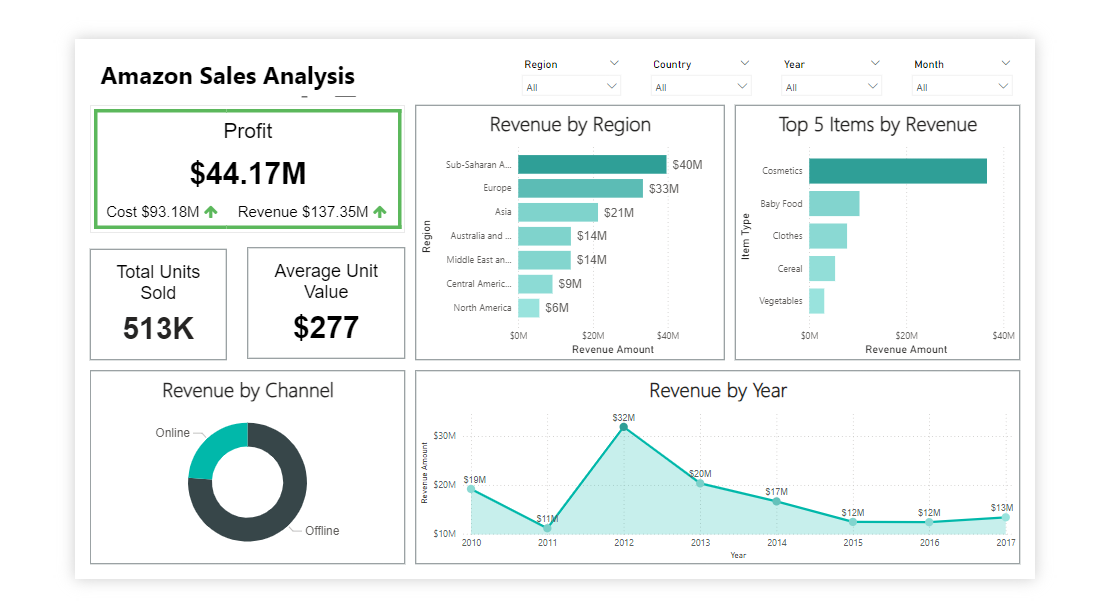

This screenshot's page, from the dashboard's own definition file:
{"tool":"powerbi","page":{"name":"Sales Overview","canvas":[1280,720],"ordinal":0},"visuals":[{"type":"BBED0A4D4D8D44CE93CF2DAFADEE466C","fields":{"actual":["Key Measures.Profit Amount"],"target1":["Key Measures.Cost Amount"],"target2":["Key Measures.Revenue Amount"]},"box":[20,88,420,170],"z":0},{"type":"shape","box":[20,20,470,56],"z":1000},{"type":"BBED0A4D4D8D44CE93CF2DAFADEE466C","fields":{"actual":["Key Measures.Total Units Sold"]},"box":[20,280,182,148],"z":1000},{"type":"textbox","box":[20,20,370,56],"z":2000},{"type":"BBED0A4D4D8D44CE93CF2DAFADEE466C","fields":{"actual":["Key Measures.Average Unit Price"]},"box":[230,278,210,148],"z":2000},{"type":"slicer","fields":{"Values":["Amazon Sales Dataset - Clean.Region"]},"box":[586,20,152,56],"z":3000},{"type":"lineChart","title":"Revenue by Year","fields":{"Category":["Sales Data.Order Date.Variation.Date Hierarchy.Year","Sales Data.Order Date.Variation.Date Hierarchy.Month"],"Y":["Key Measures.Revenue Amount"]},"box":[454,442,806,258],"z":3000},{"type":"slicer","fields":{"Values":["Amazon Sales Dataset - Clean.Country"]},"box":[758,20,154,56],"z":4000},{"type":"barChart","title":"Revenue by Region","fields":{"Category":["Sales Data.Region"],"Y":["Key Measures.Revenue Amount"]},"box":[454,88,412,340],"z":4000},{"type":"slicer","fields":{"Values":["Amazon Sales Dataset - Clean.Order Date.Variation.Date Hierarchy.Year"]},"box":[932,20,154,56],"z":5000},{"type":"barChart","title":"Top 5 Items by Revenue","fields":{"Category":["Sales Data.Item Type"],"Y":["Key Measures.Revenue Amount"]},"box":[880,88,380,340],"z":5000},{"type":"slicer","fields":{"Values":["Amazon Sales Dataset - Clean.Order Date.Variation.Date Hierarchy.Month"]},"box":[1106,20,154,56],"z":6000},{"type":"donutChart","title":"Revenue by Channel","fields":{"Category":["Sales Data.Sales Channel"],"Y":["Key Measures.Revenue Amount"]},"box":[20,442,420,258],"z":7000},{"type":"shape","box":[452,20,76,56],"z":13000}]}

Visuals, with their boxes in screenshot pixels (x1, y1, x2, y2), scaled from the page's 1280x720 canvas onto the 1114x615 screenshot:
BBED0A4D4D8D44CE93CF2DAFADEE466C - Key Measures.Profit Amount x Key Measures.Cost Amount: region(17, 75, 383, 220)
shape: region(17, 17, 426, 65)
BBED0A4D4D8D44CE93CF2DAFADEE466C - Key Measures.Total Units Sold: region(17, 239, 176, 366)
textbox: region(17, 17, 339, 65)
BBED0A4D4D8D44CE93CF2DAFADEE466C - Key Measures.Average Unit Price: region(200, 237, 383, 364)
slicer - Amazon Sales Dataset - Clean.Region: region(510, 17, 642, 65)
"Revenue by Year" lineChart: region(395, 378, 1097, 598)
slicer - Amazon Sales Dataset - Clean.Country: region(660, 17, 794, 65)
"Revenue by Region" barChart: region(395, 75, 754, 366)
slicer - Amazon Sales Dataset - Clean.Order Date.Variation.Date Hierarchy.Year: region(811, 17, 945, 65)
"Top 5 Items by Revenue" barChart: region(766, 75, 1097, 366)
slicer - Amazon Sales Dataset - Clean.Order Date.Variation.Date Hierarchy.Month: region(963, 17, 1097, 65)
"Revenue by Channel" donutChart: region(17, 378, 383, 598)
shape: region(393, 17, 460, 65)
